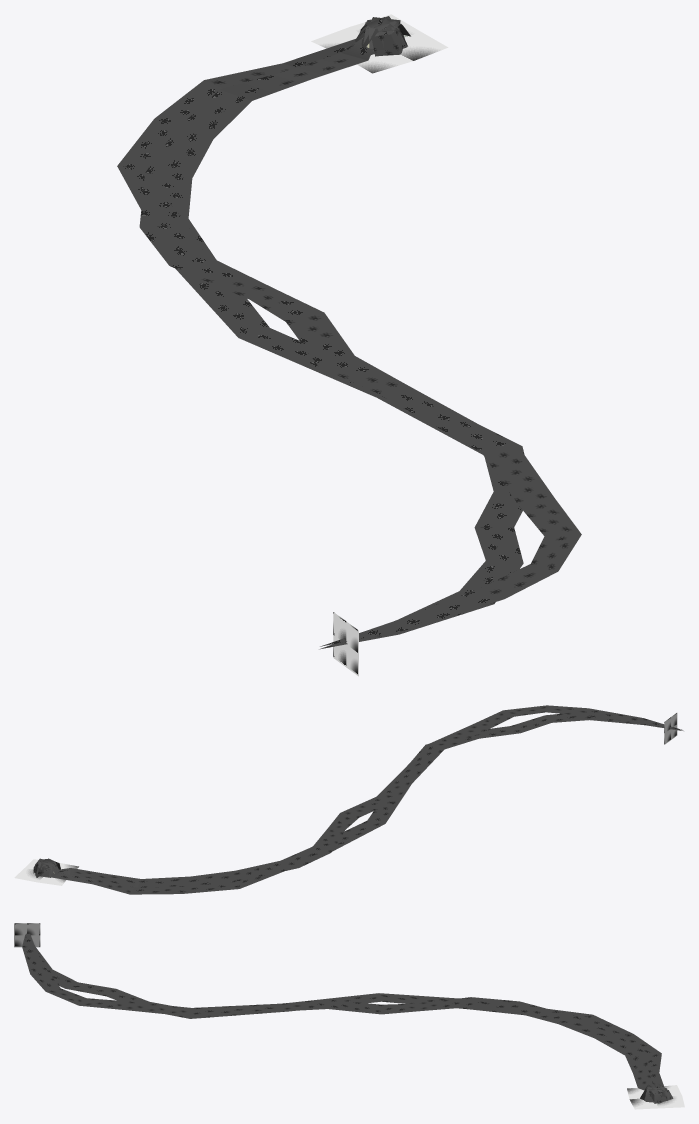
Rendered from msp_ins_ari.dae.
3 views of the same model, one above another, from view 1: azimuth 30°, elevation 25°; view 2: azimuth 150°, elevation 25°; view 3: azimuth 270°, elevation 25° (orthographic). The views are drawn at different scales.
Parts seen in each view (by area): view 1: msp_ins_ari; view 2: msp_ins_ari; view 3: msp_ins_ari.
Boxes of the visible parts, left/top/right/bottom form: msp_ins_ari: left=117, top=14, right=581, bottom=676; msp_ins_ari: left=14, top=705, right=683, bottom=894; msp_ins_ari: left=14, top=923, right=684, bottom=1109.
Size of the model in its own units: 144 by 8.85 by 225.
4 materials, 4 textured.
